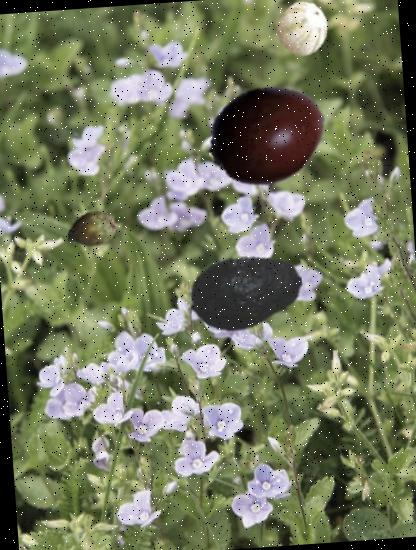Avocado: (184, 232, 308, 354)
Cactus: (64, 202, 118, 256)
Cantaloupe: (273, 0, 332, 58)
Tamarillo: (203, 70, 332, 200)
